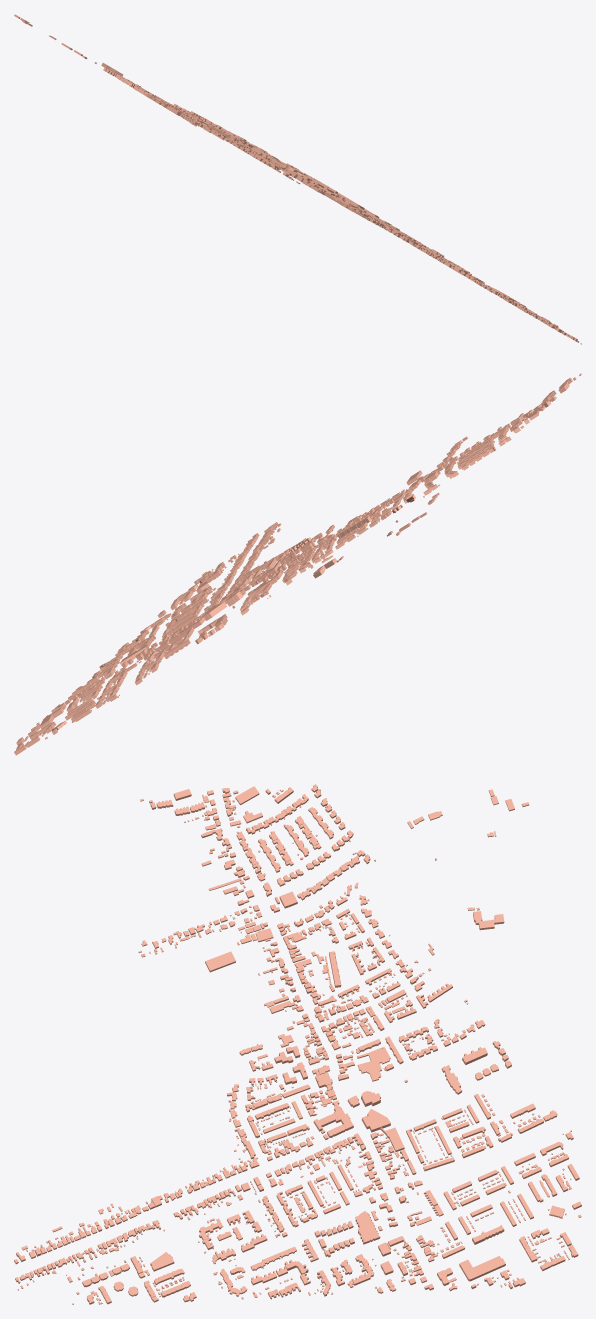
The picture shows the model from 3 angles, top to bottom: view 1: azimuth 30°, elevation 25°; view 2: azimuth 150°, elevation 25°; view 3: azimuth 270°, elevation 25°; orthographic projection. The views are drawn at different scales.
Size of the model in its own units: 1018 by 744 by 1193.
